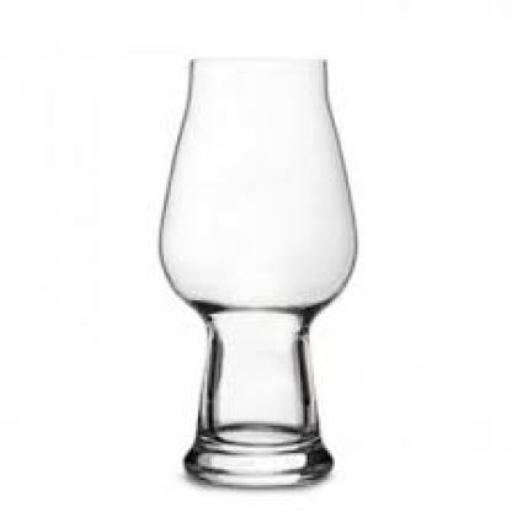glass: (157, 54, 355, 483)
